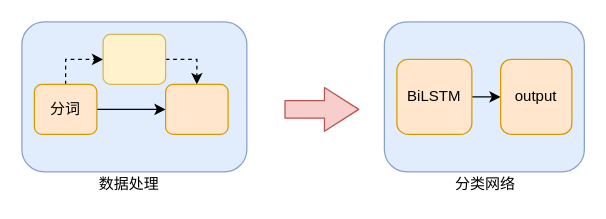
Image size: 606x219. Some labels were removed from this diagram. The centre of each missing label's shape, as x and y in pixels:
上下文向量化: (x=196, y=108)
词性标注: (x=134, y=58)
